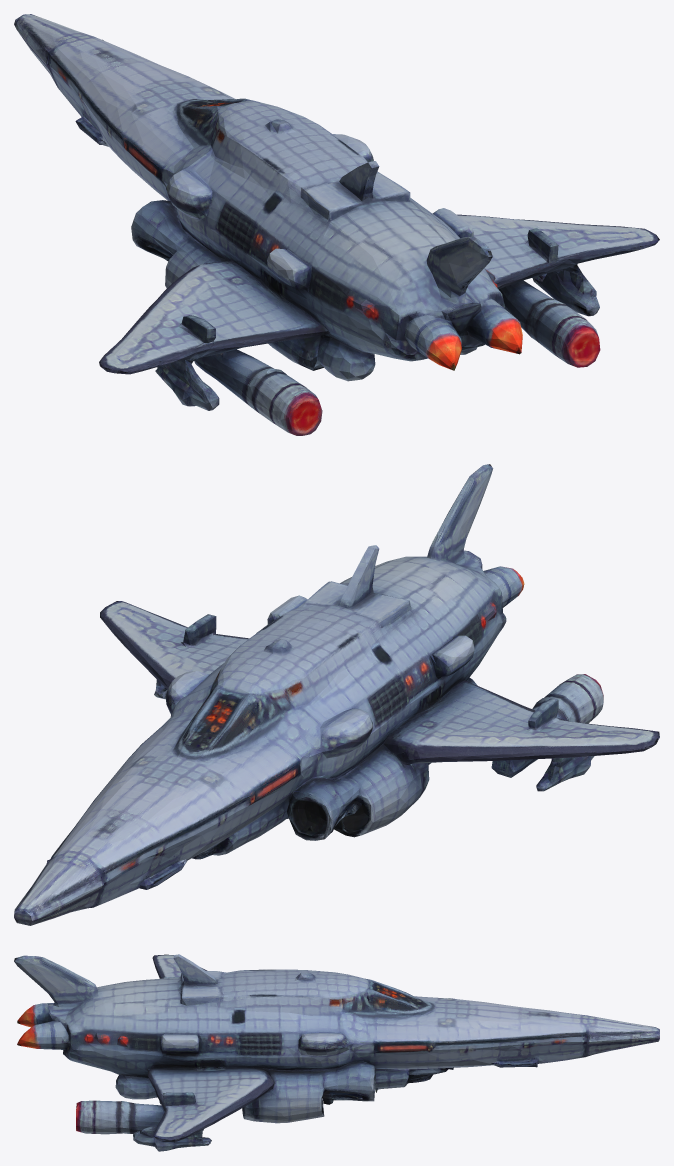
The model's file is Star Skipper Trader.glb.
The picture shows the model from 3 angles, top to bottom: view 1: azimuth 30°, elevation 25°; view 2: azimuth 150°, elevation 25°; view 3: azimuth 270°, elevation 25°; orthographic projection. The views are drawn at different scales.
Parts seen in each view (by area): view 1: world; view 2: world; view 3: world.
Part boxes in pixels (x1,y1,x2,y2): world: [14, 14, 659, 435]; world: [14, 464, 659, 925]; world: [14, 954, 659, 1151].
Size of the model in its own units: 0.6799 by 0.2387 by 1.
Materials: 1 (1 with a texture image).
